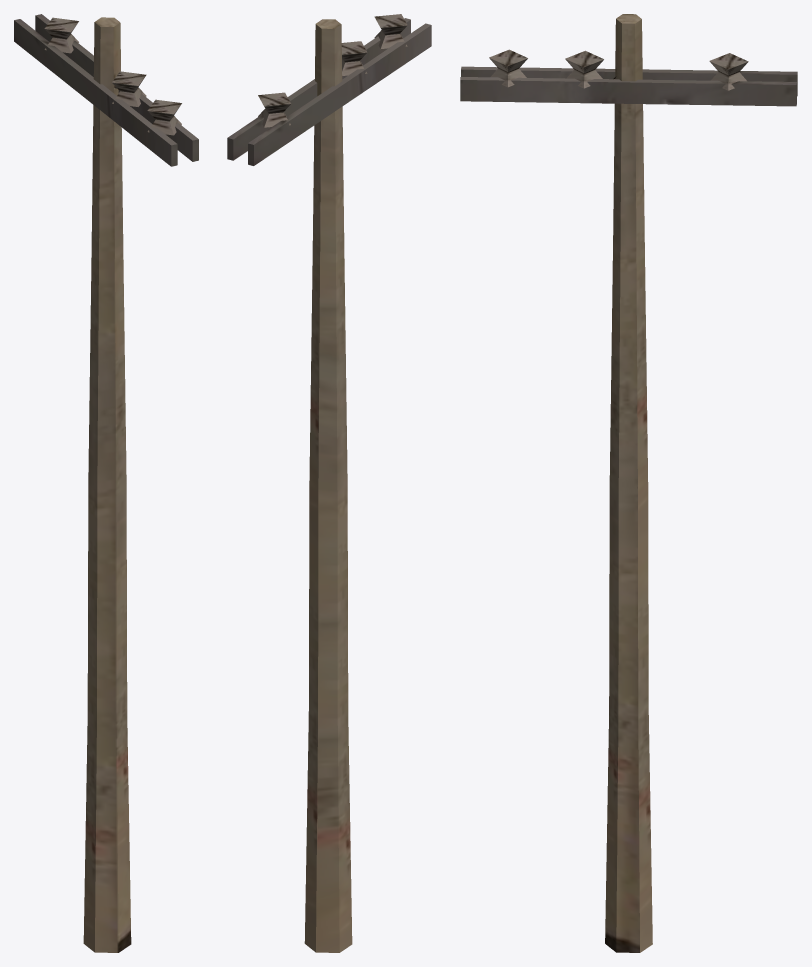
The model's file is powerpole.glb.
3 renders of one model, left to right at view 1: azimuth 30°, elevation 25°; view 2: azimuth 150°, elevation 25°; view 3: azimuth 270°, elevation 25°, orthographic.
Parts seen in each view (by area): view 1: Lamppost_01; view 2: Lamppost_01; view 3: Lamppost_01.
Boxes of the visible parts, x1,y1,x2,y2 form: Lamppost_01: (14,14,198,952); Lamppost_01: (227,14,431,952); Lamppost_01: (460,14,797,952).
Bounding box in the file's own units: 0.4901 × 10.52 × 3.48.
Materials: 1 (1 with a texture image).
